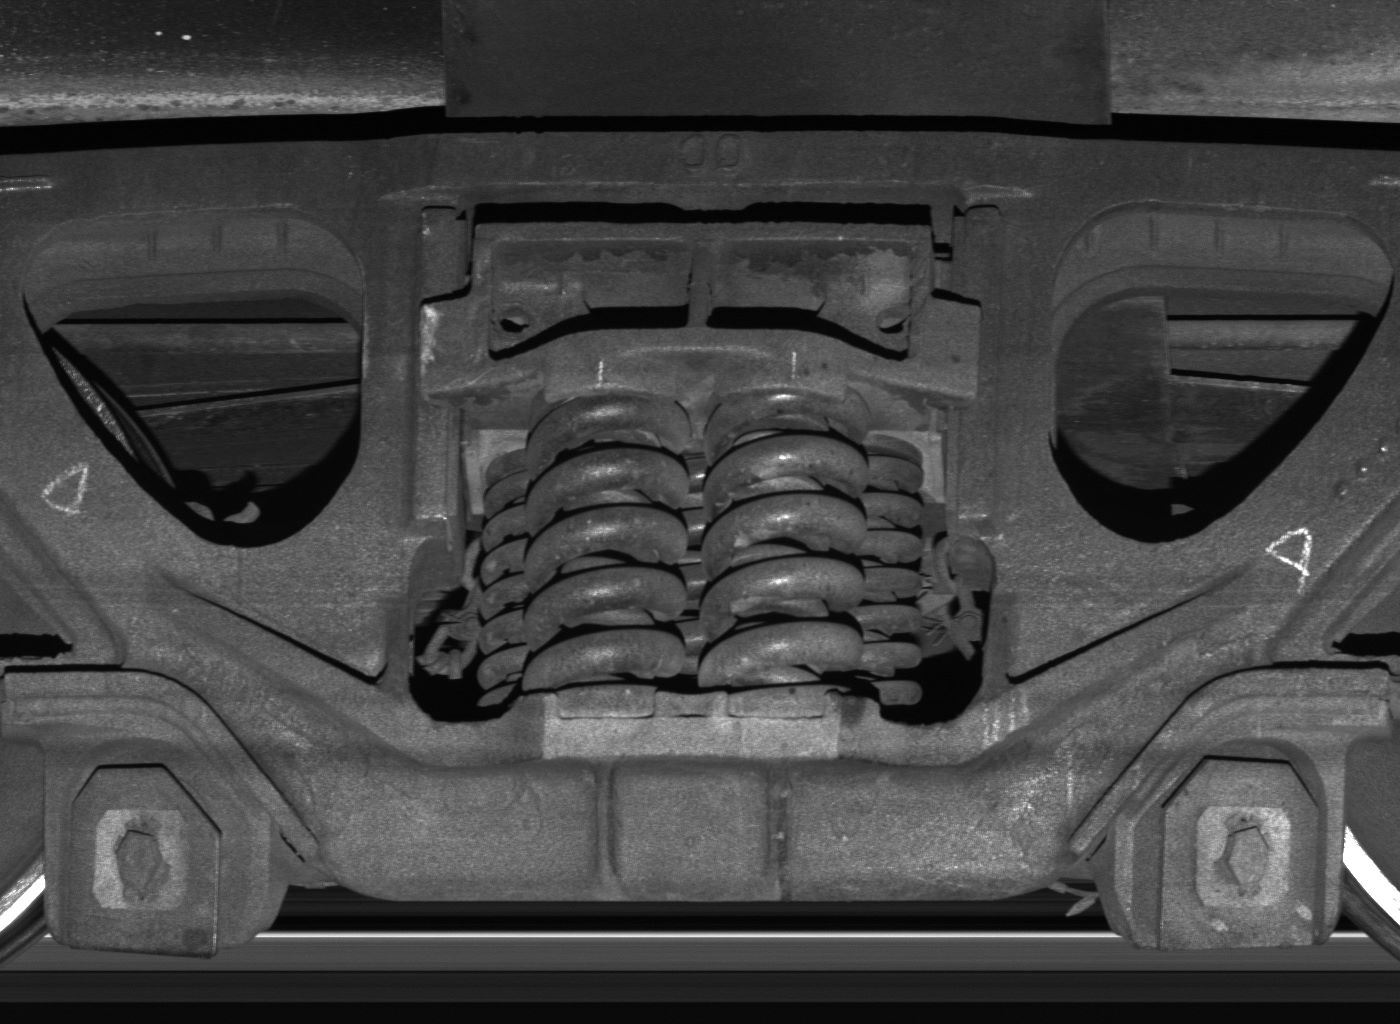locking plate: (1111, 738, 1343, 949), (41, 739, 263, 957)
